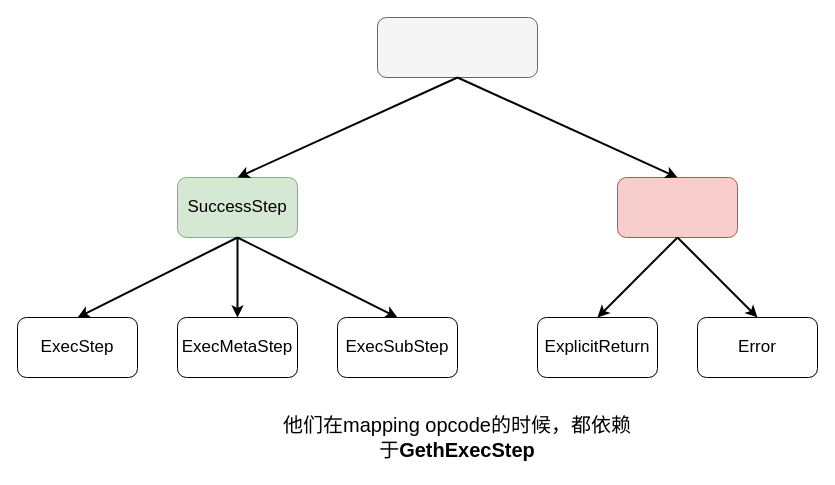
This 835x485 diagram has some shape labels left out. The shapes that lost their labels are listed below. From the top down, each one's centre as x and y in pixels, then its label:
the point at 457,47: EVMExecStates
the point at 677,207: ReturnStep
